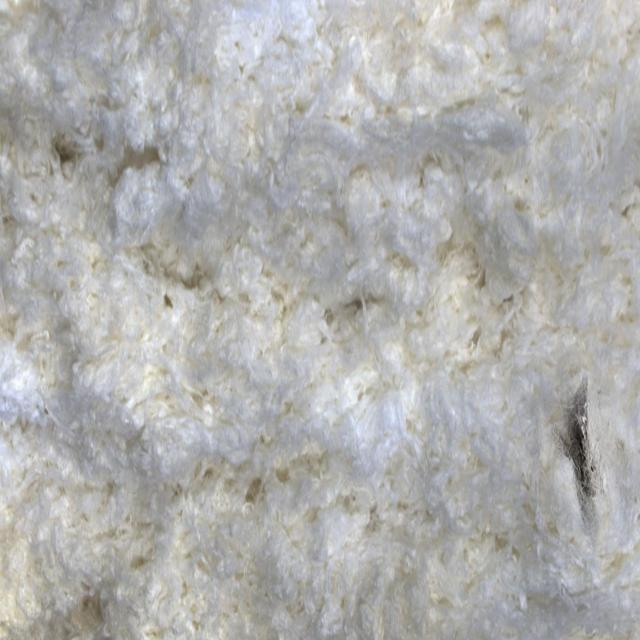dust: (517, 349, 640, 559)
